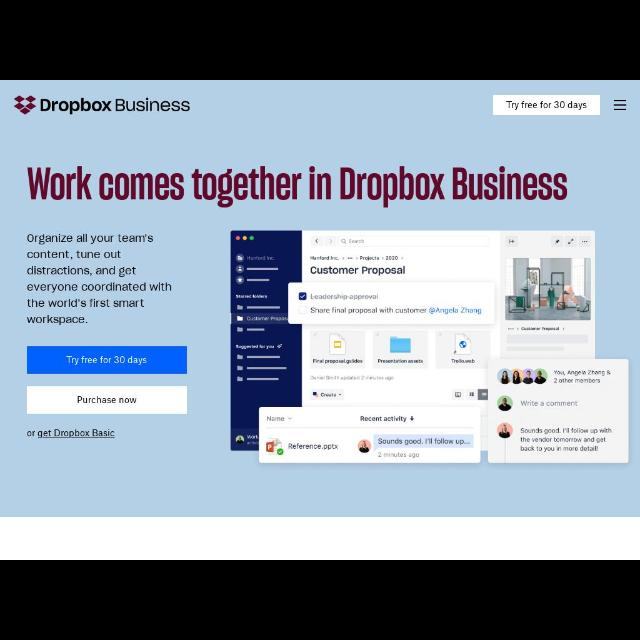icon: (612, 98, 626, 112)
image: (230, 230, 628, 464), (14, 94, 192, 118)
text: (26, 168, 570, 210), (27, 234, 172, 328), (506, 101, 588, 111), (67, 356, 146, 366), (27, 430, 115, 438), (78, 396, 136, 406)
textbutton: (27, 346, 186, 374), (27, 387, 186, 413), (493, 96, 599, 114)
